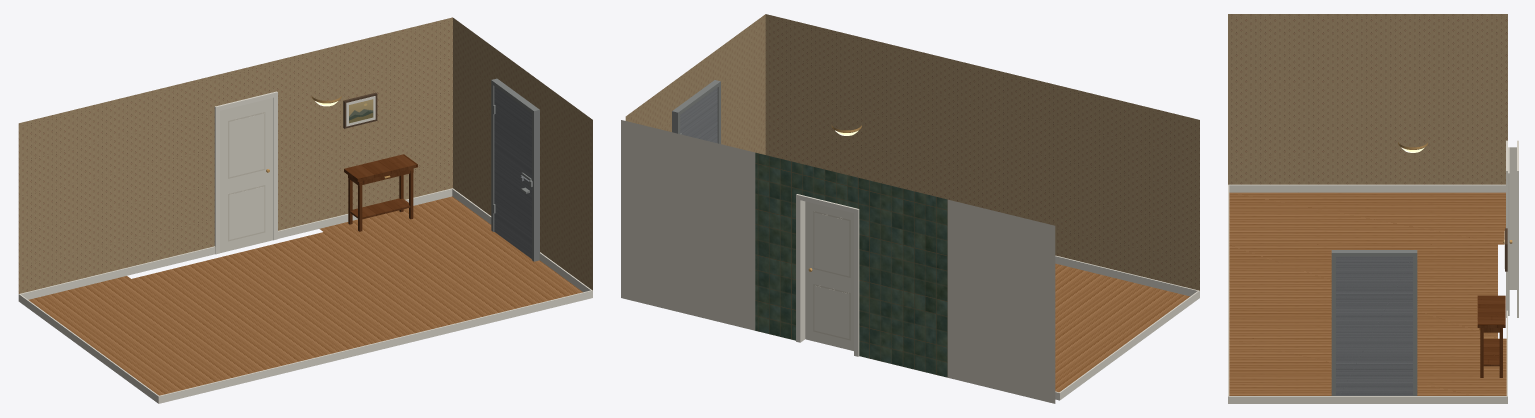
The model's file is Hallway.glb.
3 views of the same model, side by side, from view 1: azimuth 30°, elevation 25°; view 2: azimuth 150°, elevation 25°; view 3: azimuth 270°, elevation 25° (orthographic).
Visible parts, largest first — view 1: Doorway_Hall_Face (×3), Oak_Strip_Floor (×3), Hall_Right_Wall, Baseboard (×5), Steel_Front_Door_Interior, Bath_Door, Door_Raised_Panel (×2), Steel_Door_Jamb (×2), Door_Casing (×2), Console_Top, Console_Lower_Shelf; view 2: Doorway_Bath_Face (×5), Hall_End_Wall, Oak_Strip_Floor (×2), Hall_Right_Wall, Door_Raised_Panel (×2), Bath_Door, Baseboard (×2), Door_Casing (×2), Steel_Front_Door_Interior, Right_Jamb; view 3: Hall_Left_Wall, Oak_Strip_Floor (×3), Steel_Front_Door_Interior, Baseboard (×3), Steel_Door_Jamb (×2), Left_Jamb, Console_Top, Steel_Door_Header, Console_Lower_Shelf, Bath_Door, Door_Casing.
Boxes of the visible parts, x1,y1,x2,y2 form: Doorway_Hall_Face (×3): (18, 17, 452, 293); Oak_Strip_Floor (×3): (29, 196, 582, 395); Hall_Right_Wall: (453, 18, 592, 290); Baseboard (×5): (18, 188, 592, 403); Steel_Front_Door_Interior: (494, 86, 531, 258); Bath_Door: (220, 98, 273, 252); Door_Raised_Panel (×2): (229, 113, 264, 239); Steel_Door_Jamb (×2): (491, 84, 539, 261); Door_Casing (×2): (214, 91, 277, 254); Console_Top: (344, 154, 417, 181); Console_Lower_Shelf: (350, 198, 410, 219); Doorway_Bath_Face (×5): (621, 120, 1055, 403); Hall_End_Wall: (765, 14, 1199, 290); Oak_Strip_Floor (×2): (1055, 263, 1189, 392); Hall_Right_Wall: (625, 14, 765, 154); Door_Raised_Panel (×2): (814, 212, 849, 338); Bath_Door: (805, 201, 853, 350); Baseboard (×2): (1055, 255, 1199, 400); Door_Casing (×2): (796, 194, 859, 356); Steel_Front_Door_Interior: (680, 88, 717, 143); Right_Jamb: (801, 200, 805, 341); Hall_Left_Wall: (1228, 14, 1507, 184); Oak_Strip_Floor (×3): (1229, 192, 1506, 395); Steel_Front_Door_Interior: (1336, 256, 1412, 395); Baseboard (×3): (1228, 184, 1507, 403); Steel_Door_Jamb (×2): (1331, 256, 1417, 395); Left_Jamb: (1509, 147, 1516, 289); Console_Top: (1477, 295, 1505, 327); Steel_Door_Header: (1331, 250, 1417, 256); Console_Lower_Shelf: (1483, 339, 1499, 366); Bath_Door: (1508, 147, 1509, 315); Door_Casing: (1517, 169, 1518, 317).
Bounding box in the file's own units: 6.5 × 2.55 × 3.8.
Materials: 15 (7 with a texture image).
